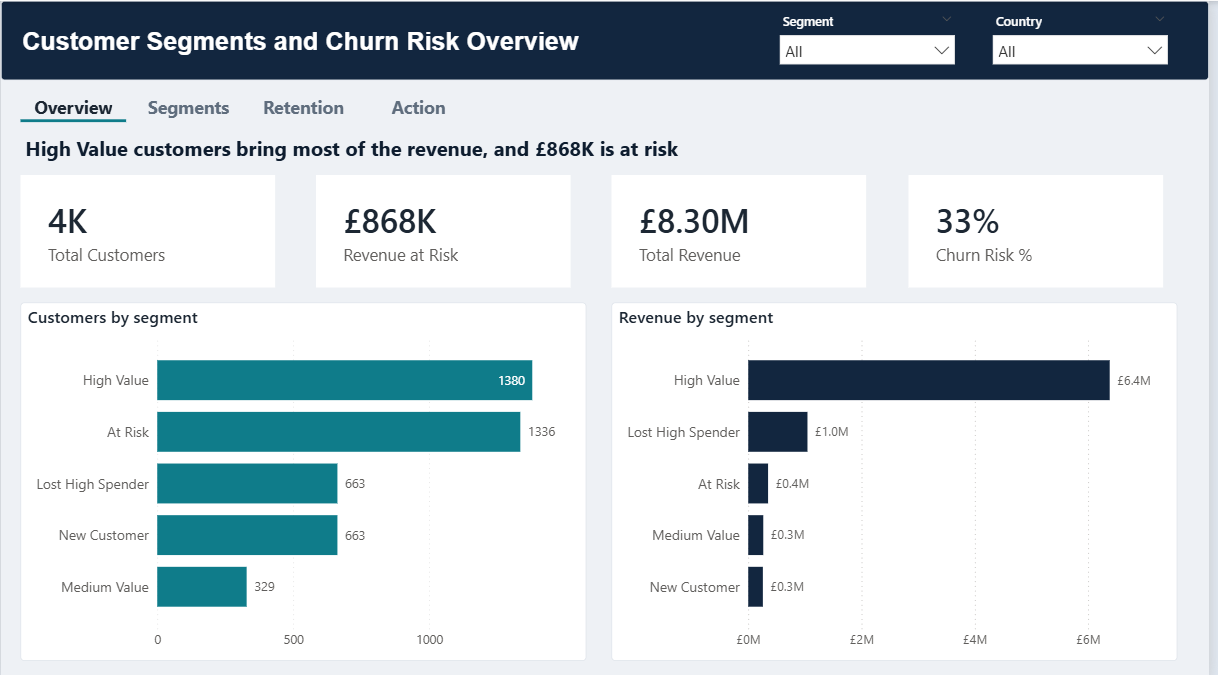

The page's visual inventory and layout, read from the dashboard file:
{"tool":"powerbi","page":{"name":"Overview","canvas":[1280,720],"ordinal":0},"visuals":[{"type":"cardVisual","fields":{"Data":["rfm_segments_202609240918_SKU.Total Customers"]},"box":[20,185,270,119.3],"z":0},{"type":"cardVisual","fields":{"Data":["rfm_segments_202609240918_SKU.Total Revenue"]},"box":[648,185,270,119.3],"z":1000},{"type":"cardVisual","fields":{"Data":["rfm_segments_202609240918_SKU.Churn Risk %"]},"box":[962,185,270,119.3],"z":2000},{"type":"cardVisual","fields":{"Data":["rfm_segments_202609240918_SKU.Revenue at Risk"]},"box":[334,185,270,119.3],"z":3000},{"type":"clusteredBarChart","title":"Customers by segment","fields":{"Category":["rfm_segments_202609240918_SKU.customer_segment"],"Y":["rfm_segments_202609240918_SKU.Total Customers"]},"box":[20,320,600,380],"z":4000},{"type":"clusteredBarChart","title":"Revenue by segment","fields":{"Category":["rfm_segments_202609240918_SKU.customer_segment"],"Y":["rfm_segments_202609240918_SKU.Total Revenue"]},"box":[648,320,600,380],"z":5000},{"type":"textbox","box":[0,0,1280.8,84.2],"z":6000},{"type":"slicer","fields":{"Values":["rfm_segments_202609240918_SKU.customer_segment"]},"box":[816,6.4,205.2,70],"z":7000},{"type":"slicer","fields":{"Values":["rfm_segments_202609240918_SKU.Country"]},"box":[1041.9,6.4,205.2,70],"z":8000},{"type":"pageNavigator","box":[20.7,95,480.4,33.4],"z":9000},{"type":"textbox","box":[20.7,135,723.7,42.9],"z":10000}]}

Visuals, with their boxes in screenshot pixels (x1, y1, x2, y2), scaled from the page's 1280x720 canvas onto the 1218x675 screenshot:
cardVisual - rfm_segments_202609240918_SKU.Total Customers: crop(19, 173, 276, 285)
cardVisual - rfm_segments_202609240918_SKU.Total Revenue: crop(617, 173, 874, 285)
cardVisual - rfm_segments_202609240918_SKU.Churn Risk %: crop(915, 173, 1172, 285)
cardVisual - rfm_segments_202609240918_SKU.Revenue at Risk: crop(318, 173, 575, 285)
"Customers by segment" clusteredBarChart: crop(19, 300, 590, 656)
"Revenue by segment" clusteredBarChart: crop(617, 300, 1188, 656)
textbox: crop(0, 0, 1217, 79)
slicer - rfm_segments_202609240918_SKU.customer_segment: crop(776, 6, 972, 72)
slicer - rfm_segments_202609240918_SKU.Country: crop(991, 6, 1187, 72)
pageNavigator: crop(20, 89, 477, 120)
textbox: crop(20, 127, 708, 167)
